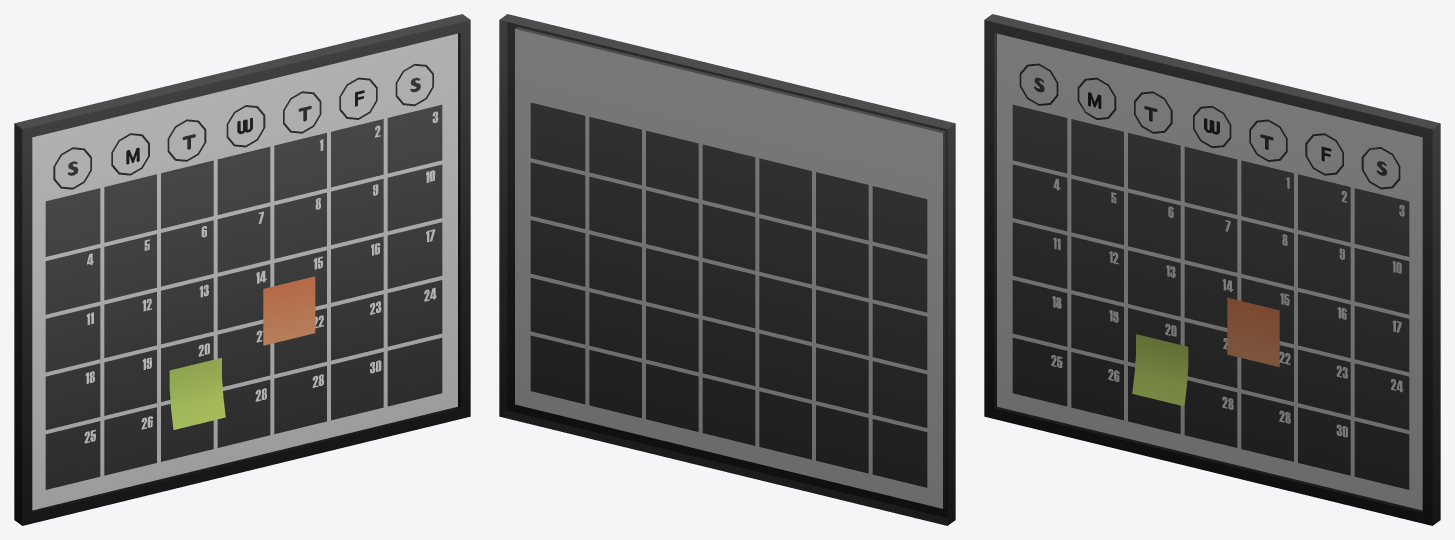
File: CR_Calender.FBX
3 renders of one model, left to right at view 1: azimuth 30°, elevation 25°; view 2: azimuth 150°, elevation 25°; view 3: azimuth 330°, elevation 25°, orthographic.
Visible parts, largest first — view 1: CR_Calender; view 2: CR_Calender; view 3: CR_Calender.
Boxes of the visible parts, left/top/right/bottom form: CR_Calender: left=14, top=14, right=470, bottom=525; CR_Calender: left=499, top=14, right=955, bottom=525; CR_Calender: left=984, top=14, right=1440, bottom=525.
Bounding box in the file's own units: 118 × 99.75 × 4.41.
Materials: 1 (1 with a texture image).
